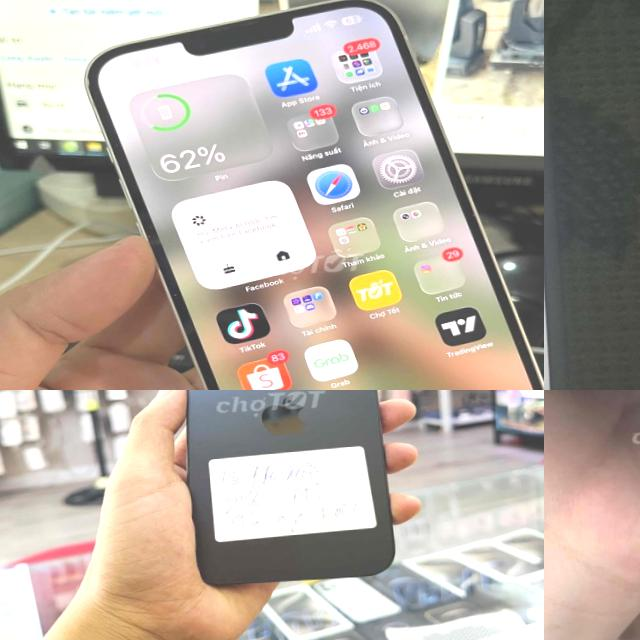scratch: (80, 78, 96, 96)
